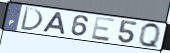5: (117, 19, 139, 45)
6: (71, 14, 90, 38)
A: (41, 11, 67, 36)
D: (19, 6, 45, 33)
E: (90, 15, 117, 43)
Q: (138, 21, 162, 50)
